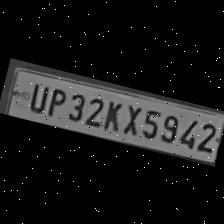2: (82, 92, 108, 130), (192, 116, 218, 154)
3: (62, 88, 87, 124)
4: (174, 113, 198, 150)
5: (136, 104, 162, 140)
9: (155, 108, 181, 146)
K: (98, 96, 124, 134)
P: (42, 82, 68, 120)
U: (24, 78, 50, 114)
X: (117, 100, 143, 137)
